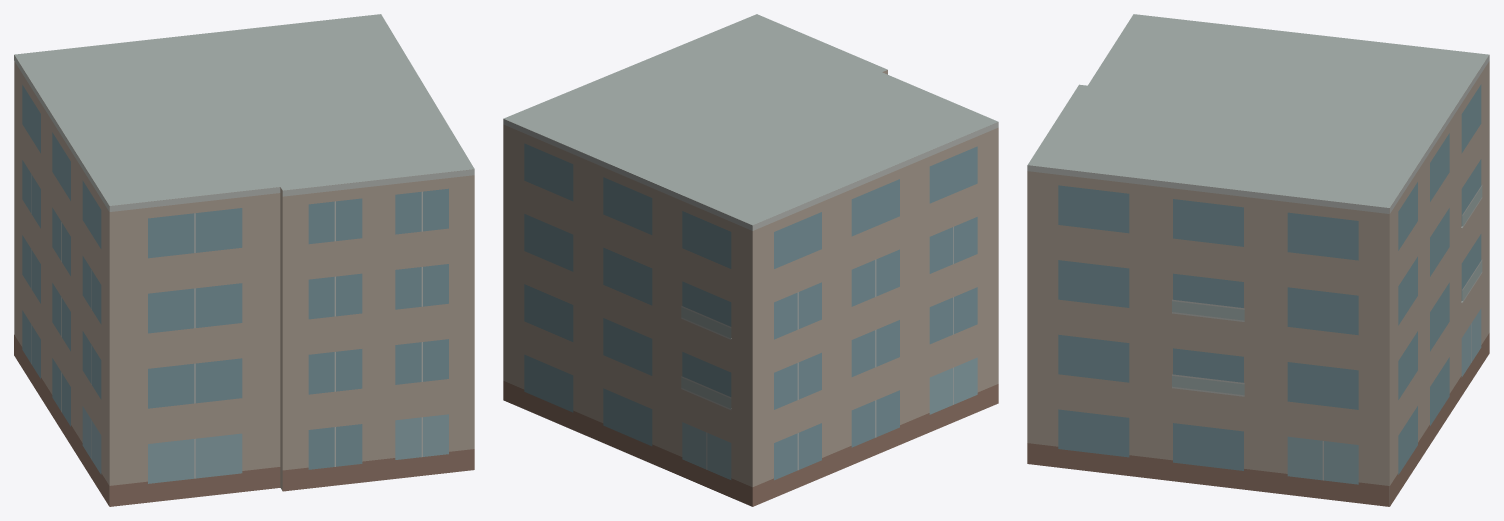
Rendered from survey-upis-32580499.glb.
3 renders of one model, left to right at view 1: azimuth 30°, elevation 25°; view 2: azimuth 150°, elevation 25°; view 3: azimuth 270°, elevation 25°, orthographic. The views are drawn at different scales.
Visible parts, largest first — view 1: survey-upis-32580499.tmp; view 2: survey-upis-32580499.tmp; view 3: survey-upis-32580499.tmp.
Part boxes in pixels (x1,y1,x2,y2): survey-upis-32580499.tmp: [14, 14, 474, 506]; survey-upis-32580499.tmp: [503, 14, 998, 506]; survey-upis-32580499.tmp: [1027, 14, 1489, 506].
Bounding box in the file's own units: 17.01 × 12.2 × 17.11.
